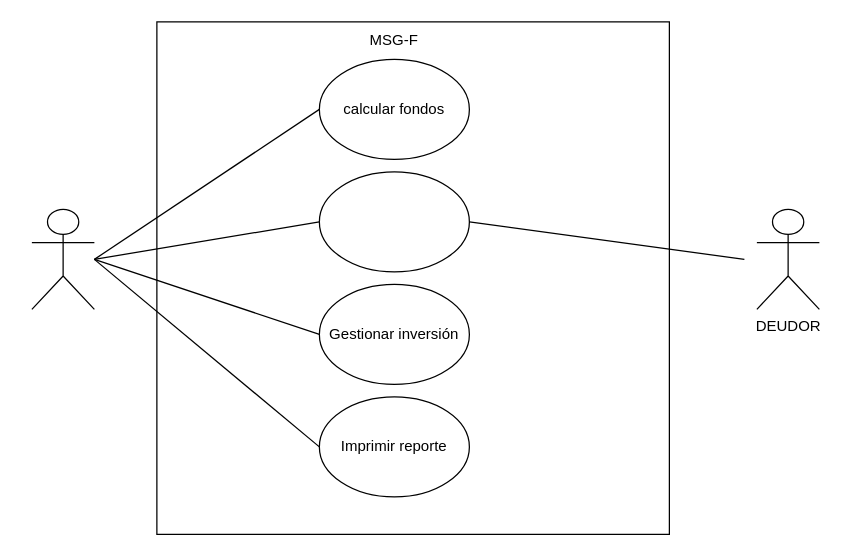
This 843x556 diagram has some shape labels left out. The shapes that lost their labels are listed below. From the top down, each one's centre as x and y in pixels, then its label:
the point at 393,221: Gestionar Hipotecas
the point at 62,258: EMPLEADO MSG-F
